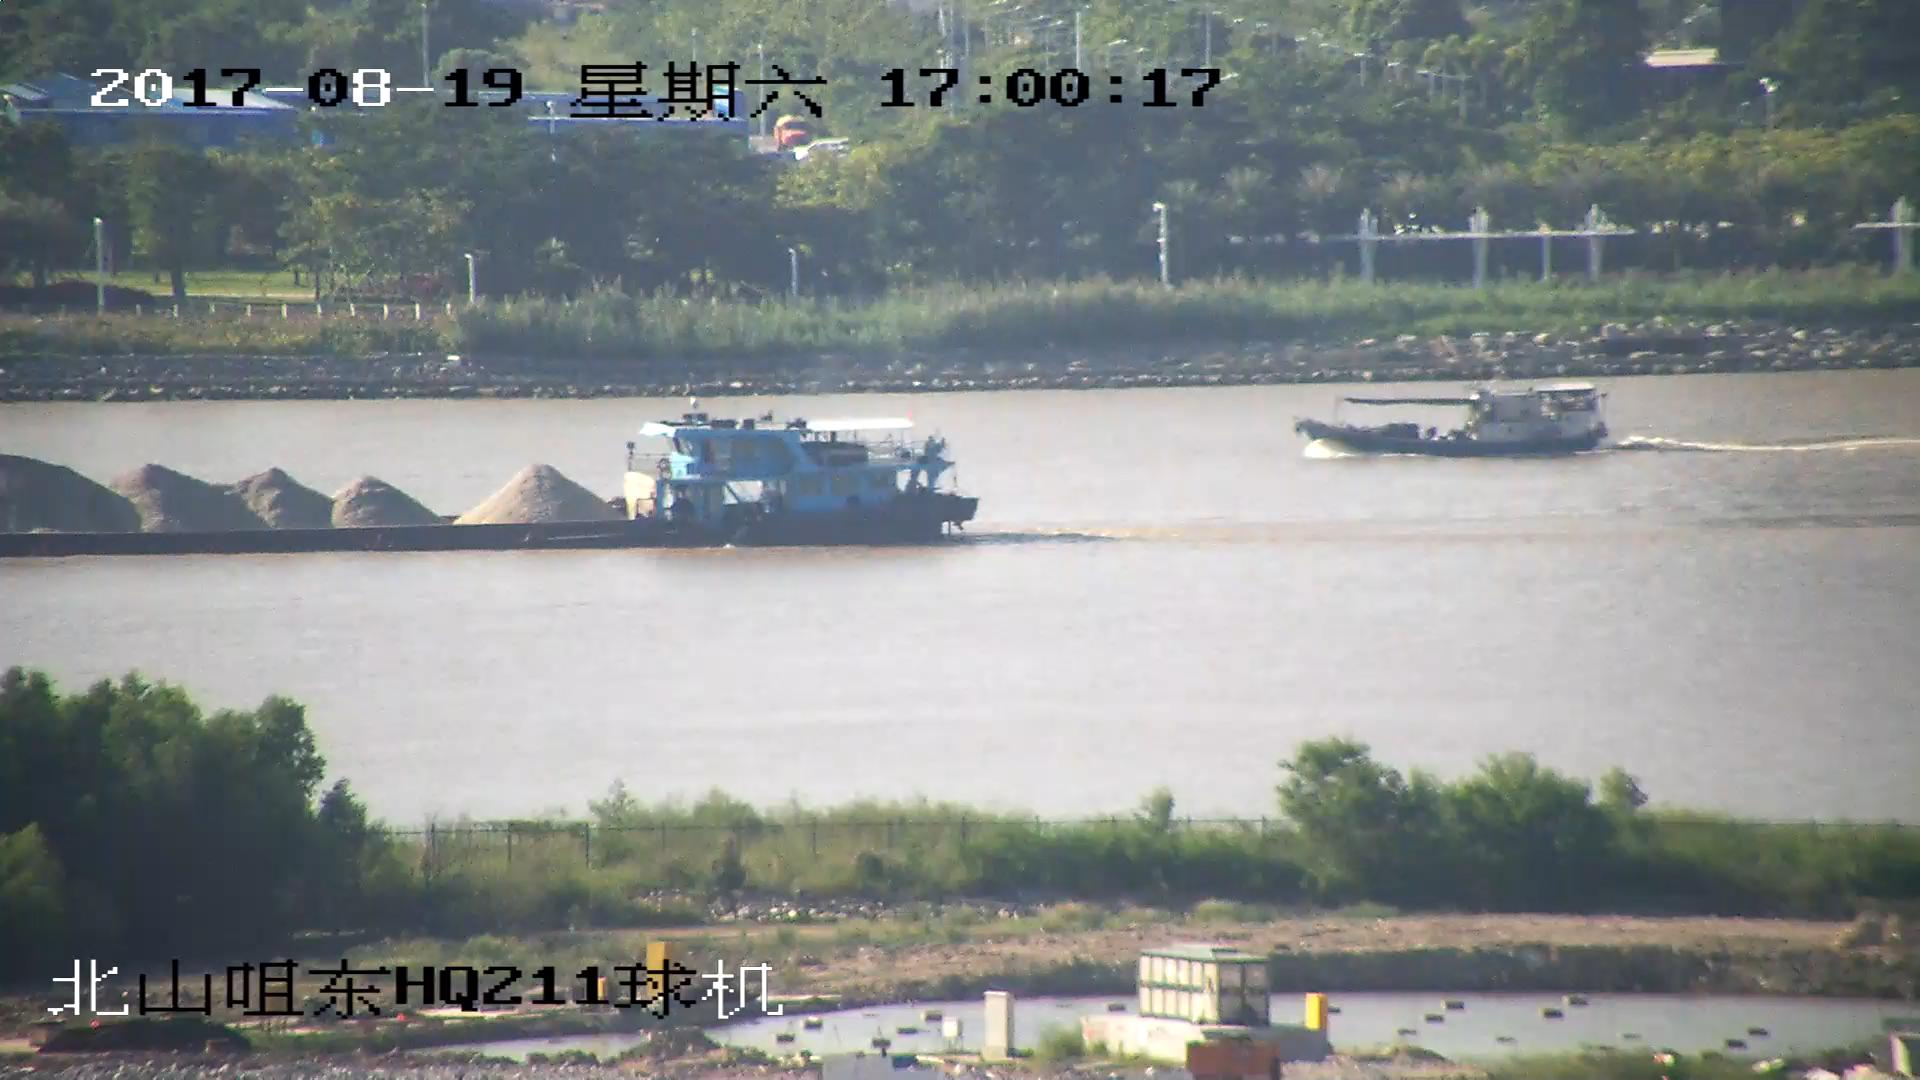fishing boat: (1292, 378, 1616, 464)
ore carrier: (1, 393, 980, 556)
